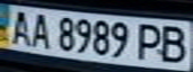8: (51, 14, 78, 52), (90, 17, 112, 56)
9: (109, 19, 136, 60), (72, 16, 93, 54)
A: (3, 7, 36, 46), (27, 10, 54, 49)
B: (157, 21, 190, 64)
P: (133, 20, 166, 62)
